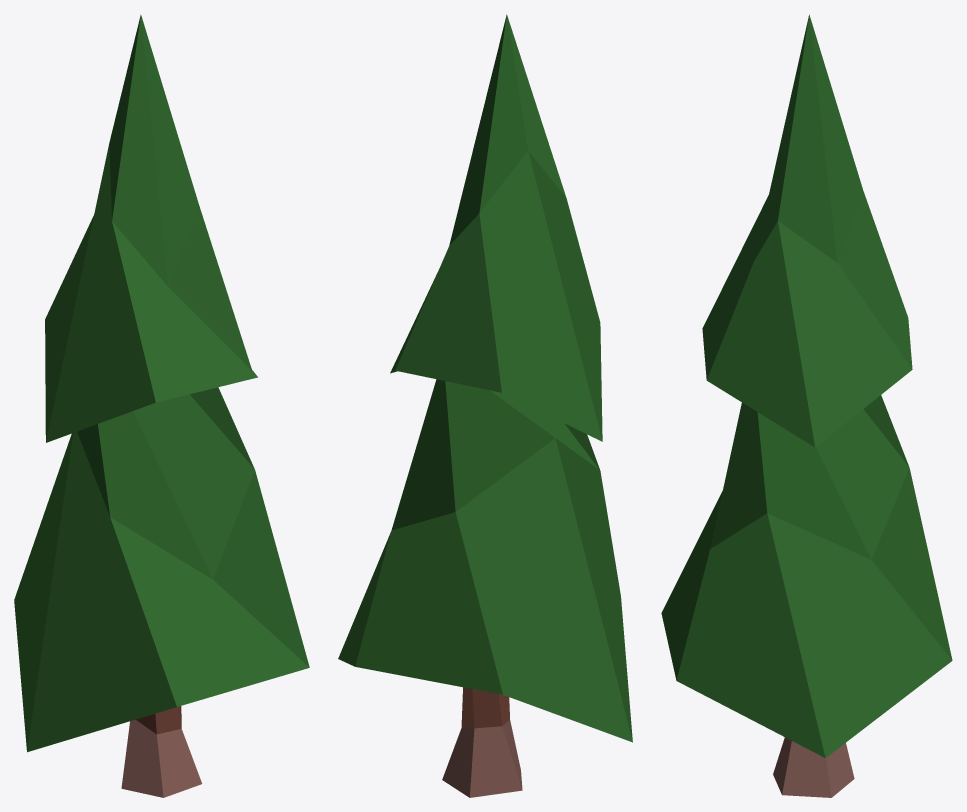
The model's file is arbol pino 4.fbx.
The picture shows the model from 3 angles, left to right: view 1: azimuth 30°, elevation 25°; view 2: azimuth 150°, elevation 25°; view 3: azimuth 270°, elevation 25°; orthographic projection.
Parts seen in each view (by area): view 1: SpruceTree2; view 2: SpruceTree2; view 3: SpruceTree2.
Boxes of the visible parts, bbox=[...] form: SpruceTree2: bbox=[14, 14, 309, 797]; SpruceTree2: bbox=[338, 14, 632, 797]; SpruceTree2: bbox=[661, 14, 952, 797].
Bounding box in the file's own units: 9981 × 26220 × 9120.
